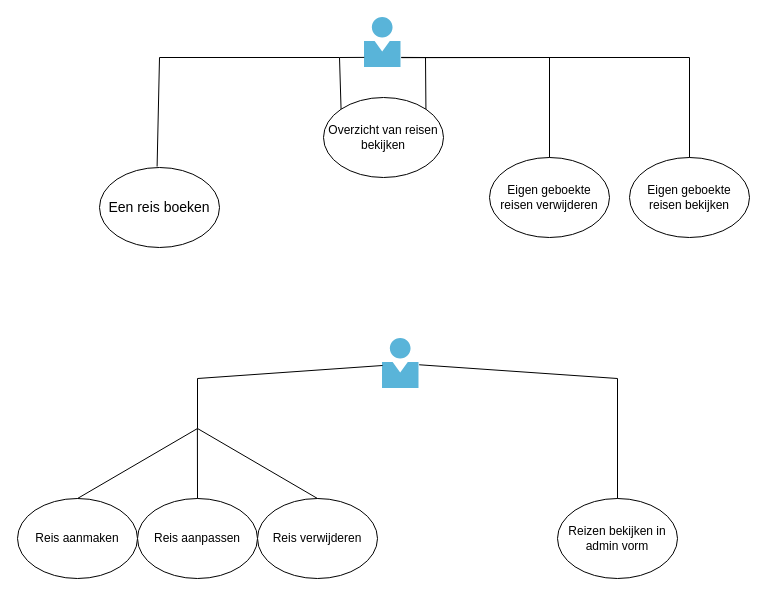
Some shapes in this 767 by 596 pixel diagram are drawn without their labels. Here are the shapes that lost their labels. From the top down, the centre of each, then its label:
point (382, 42): Student
point (400, 363): Admin
